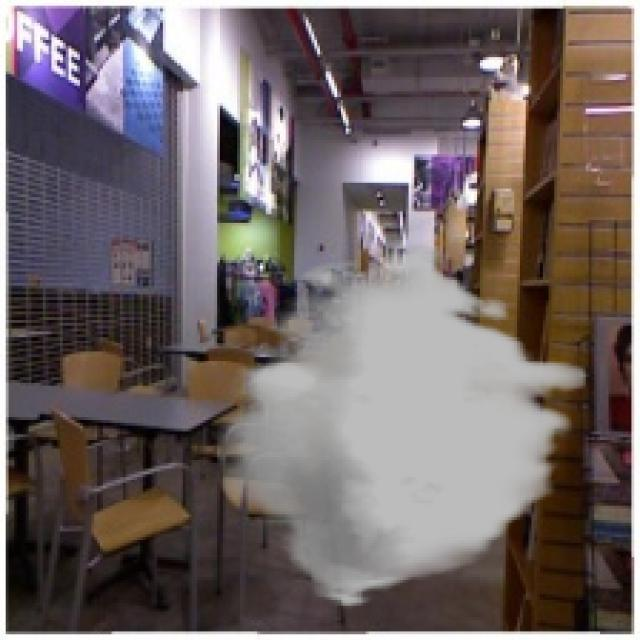Smoke: (217, 242, 586, 608)
